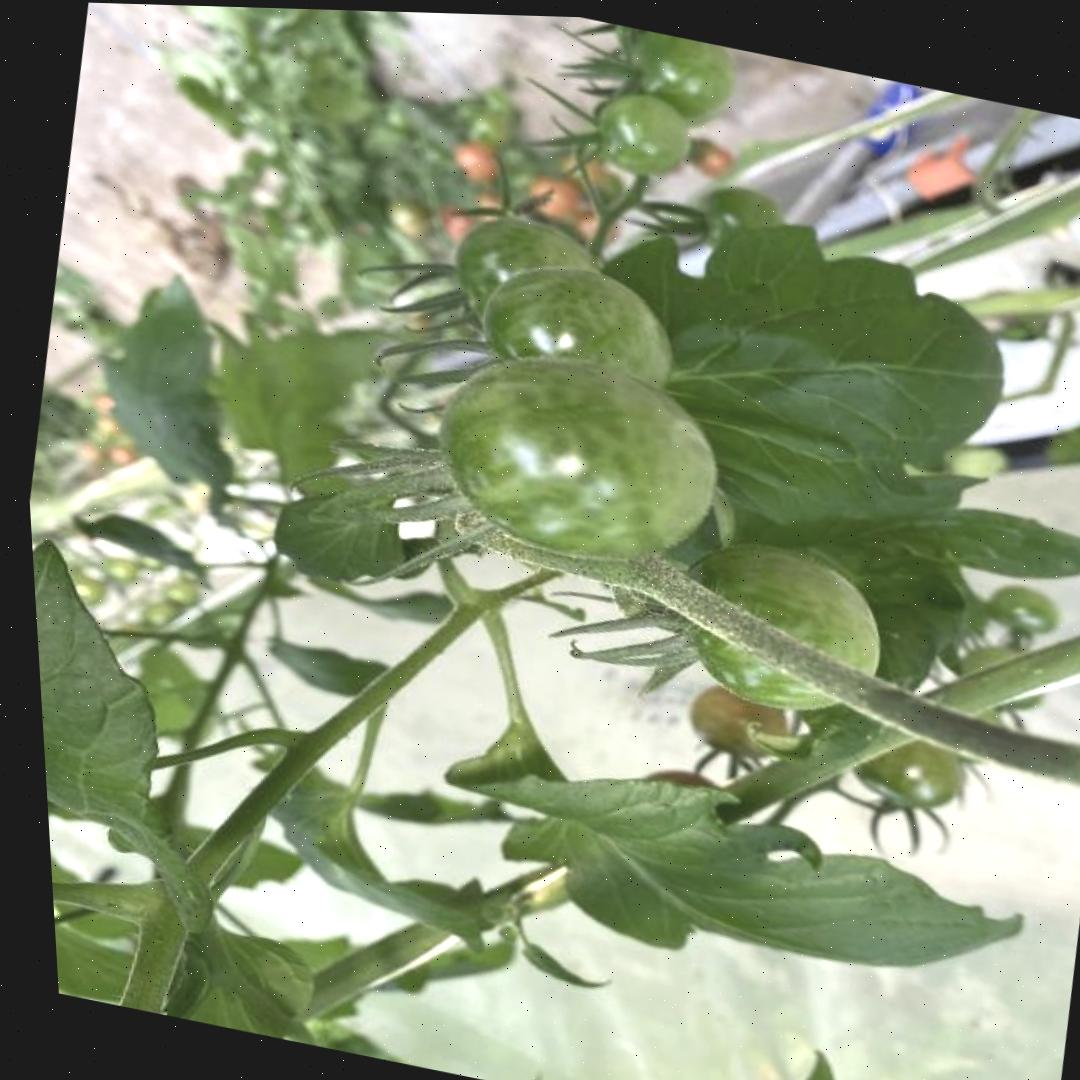mentah: (412, 331, 738, 578), (647, 522, 896, 726), (467, 251, 690, 413), (586, 85, 700, 185)
